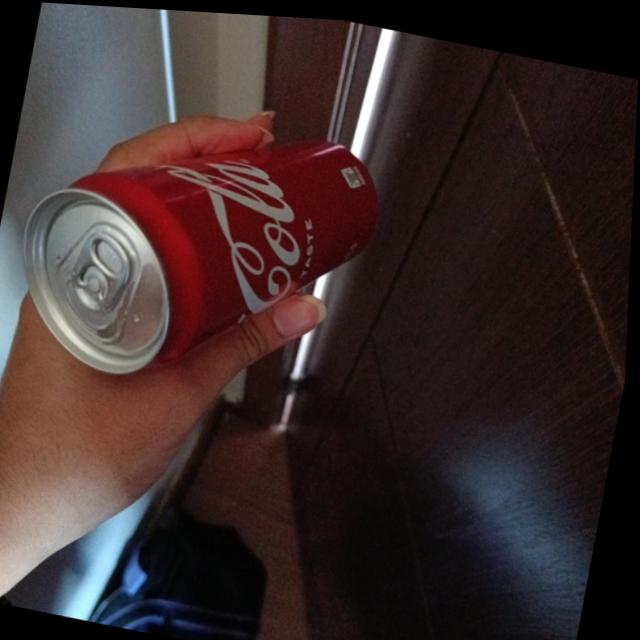coke: (1, 77, 392, 420)
